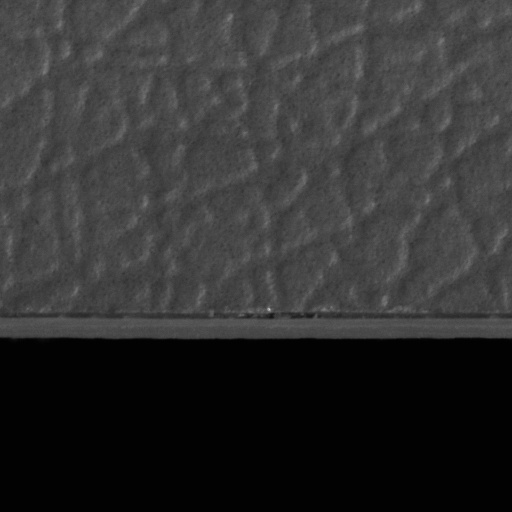jiaofeng: (227, 309, 339, 321)
